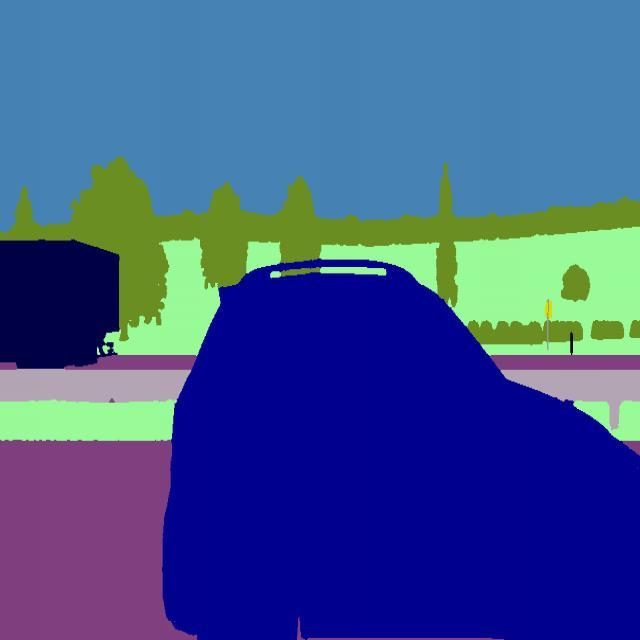safe: (0, 236, 119, 370)
unsafe: (161, 255, 640, 639)
